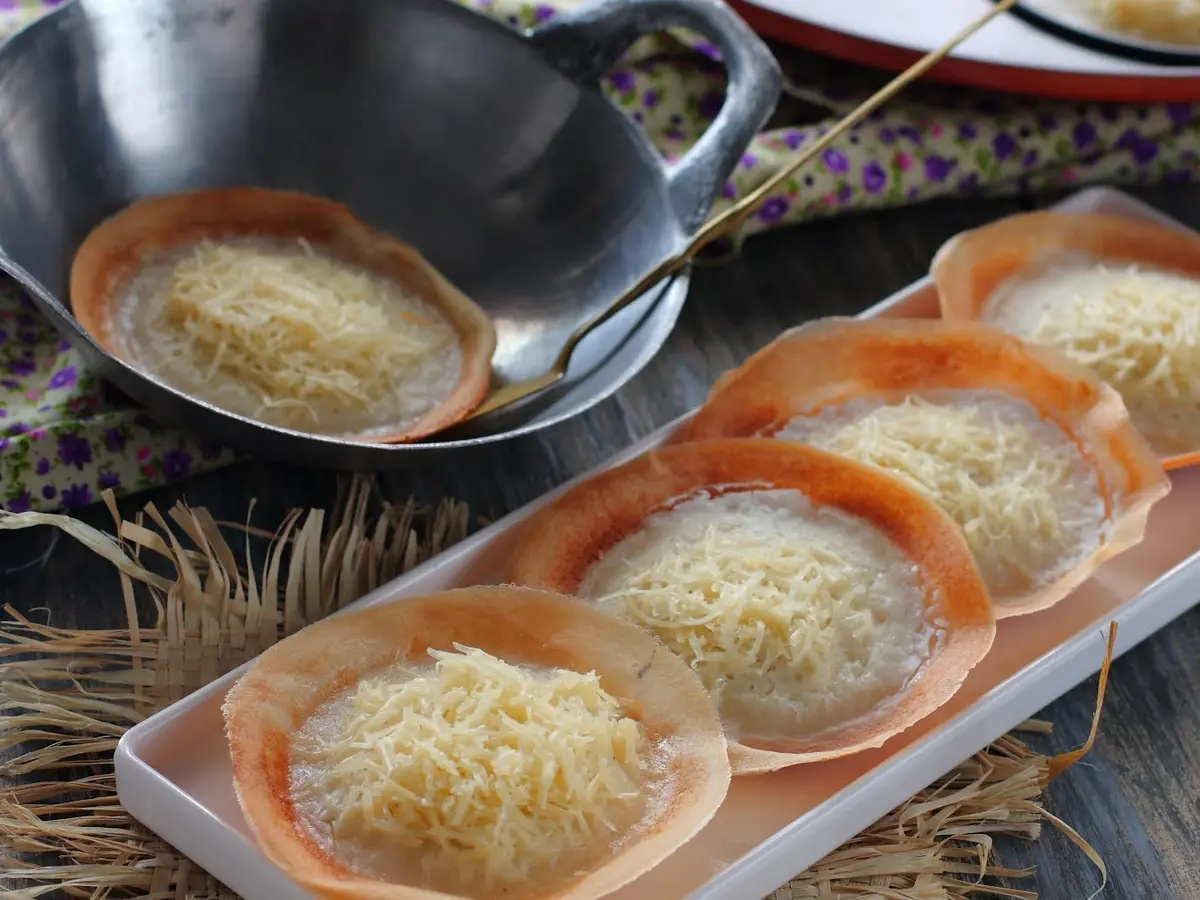srabi: (202, 591, 742, 888), (110, 165, 511, 454)
